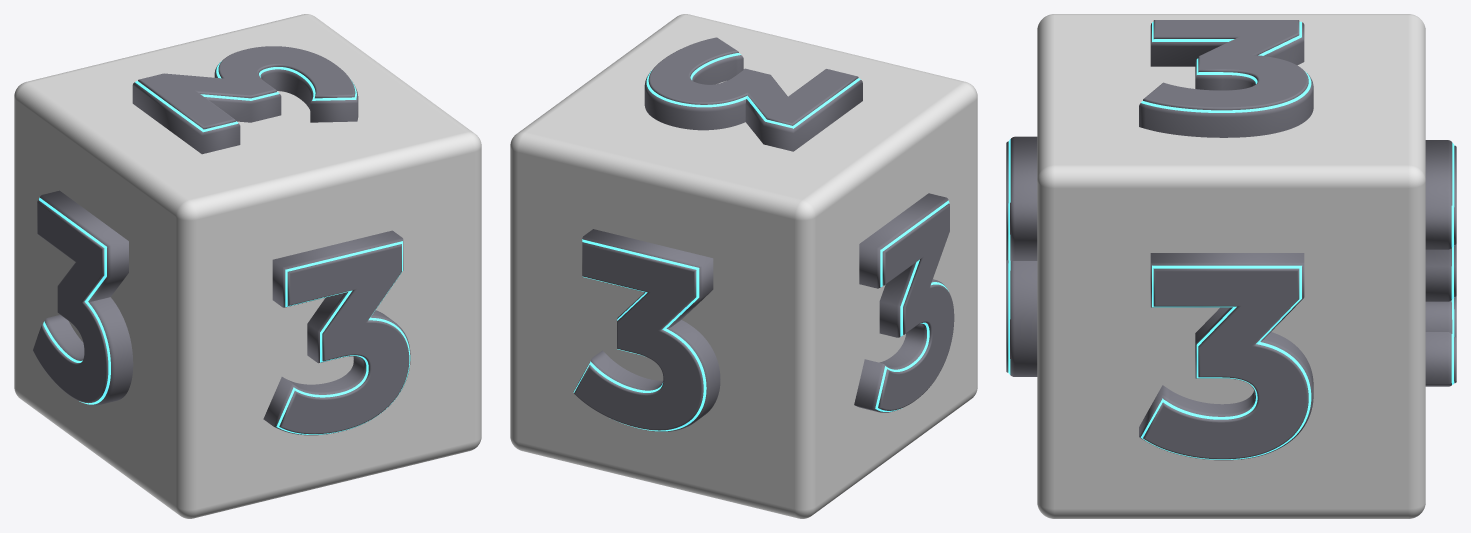
File: Number 3.fbx
The picture shows the model from 3 angles, left to right: view 1: azimuth 30°, elevation 25°; view 2: azimuth 150°, elevation 25°; view 3: azimuth 270°, elevation 25°; orthographic projection. The views are drawn at different scales.
Parts seen in each view (by area): view 1: Cube, N_3_smaller.001, N_3_smaller, N_3_smaller.004, N_3_side, N_3_side.004, N_3_side.001, N_3_border.001, N_3_border.004, N_3_border; view 2: Cube, N_3_smaller.003, N_3_smaller, N_3_smaller.004, N_3_side.004, N_3_side, N_3_side.003, N_3_border.003, N_3_border, N_3_border.004; view 3: Cube, N_3_smaller.002, N_3_smaller.004, N_3_side.004, N_3_side.003, N_3_side.001, N_3_side.002, N_3_border.002, N_3_border.004, N_3_smaller.003, N_3_border.003, N_3_smaller.001 (+1 smaller).
Part boxes in pixels (<box>): Cube: <box>14,14,481,518</box>; N_3_smaller.001: <box>279,244,409,434</box>; N_3_smaller: <box>33,200,108,403</box>; N_3_smaller.004: <box>138,46,355,129</box>; N_3_side: <box>40,190,133,405</box>; N_3_side.004: <box>132,62,358,154</box>; N_3_side.001: <box>263,230,410,435</box>; N_3_border.001: <box>276,241,410,434</box>; N_3_border.004: <box>135,61,356,132</box>; N_3_border: <box>39,197,110,404</box>; Cube: <box>510,14,977,518</box>; N_3_smaller.003: <box>574,242,703,430</box>; N_3_smaller: <box>878,203,954,410</box>; N_3_smaller.004: <box>648,37,858,125</box>; N_3_side.004: <box>644,55,862,151</box>; N_3_side: <box>854,193,948,412</box>; N_3_side.003: <box>573,229,720,431</box>; N_3_border.003: <box>573,239,706,431</box>; N_3_border: <box>875,200,949,411</box>; N_3_border.004: <box>646,53,860,128</box>; Cube: <box>1037,14,1425,518</box>; N_3_smaller.002: <box>1143,268,1308,459</box>; N_3_smaller.004: <box>1143,20,1308,110</box>; N_3_side.004: <box>1139,22,1313,137</box>; N_3_side.003: <box>1425,140,1452,386</box>; N_3_side.001: <box>1010,136,1037,376</box>; N_3_side.002: <box>1139,253,1313,460</box>; N_3_border.002: <box>1140,265,1311,459</box>; N_3_border.004: <box>1141,21,1311,112</box>; N_3_smaller.003: <box>1454,145,1456,383</box>; N_3_border.003: <box>1451,142,1454,384</box>; N_3_smaller.001: <box>1006,141,1008,372</box>.
Size of the model in its own units: 232 by 232 by 232.
